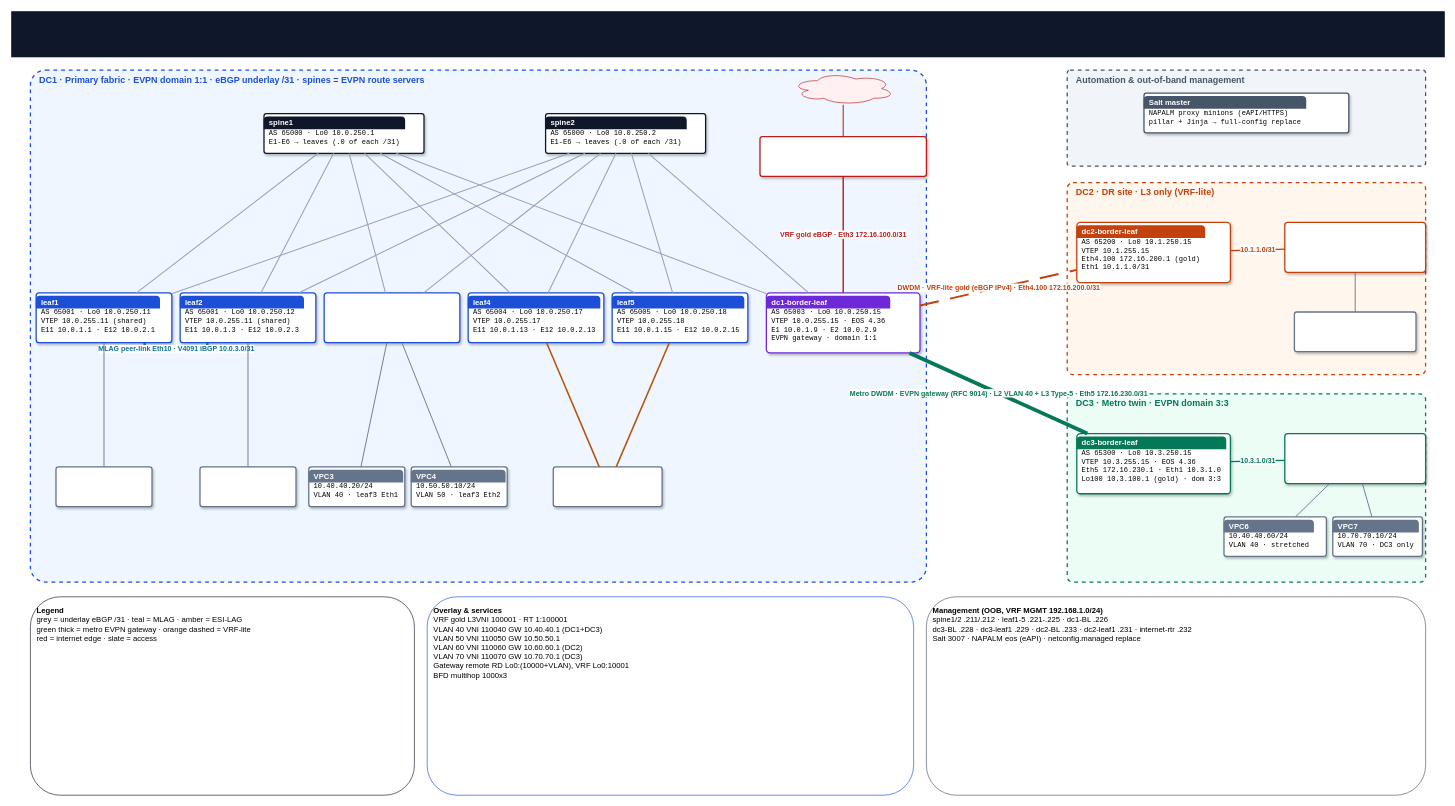
The diagram is 1455 pixels wide and 806 high, and some of its shapes have lost their labels. The shapes that lost their labels are listed below. From the top down, each one's centre as x and y in pixels, then its label:
At pixel 727 34: "Arista EVPN-VXLAN · 3 data centers · managed by SaltStack".
At pixel 842 88: "Internet".
At pixel 843 157: "internet-rtr (IOSv) AS 65100 · NAT · default-originate Gi0/0 172.16.100.1/31".
At pixel 1355 248: "dc2-leaf1 AS 65201 · Lo0 10.1.250.11 VTEP 10.1.255.11 Eth11 10.1.1.1/31".
At pixel 392 318: "leaf3 AS 65002 · Lo0 10.0.250.13 VTEP 10.0.255.13 E11 10.0.1.5 · E12 10.0.2.5".
At pixel 1355 332: "VPC5 10.60.60.10/24 VLAN 60 · dc2-leaf1 Eth1".
At pixel 1355 459: "dc3-leaf1 AS 65301 · Lo0 10.3.250.11 VTEP 10.3.255.11 Eth11 10.3.1.1/31".
At pixel 104 487: "VPC1 10.40.40.10/24 VLAN 40 · leaf1 Eth1".
At pixel 248 487: "VPC2 10.40.40.30/24 VLAN 40 · leaf2 Eth1".
At pixel 608 487: "SRV-1 (bond0) 10.40.40.70/24 VLAN 40 · Po10 ESI-LAG".
